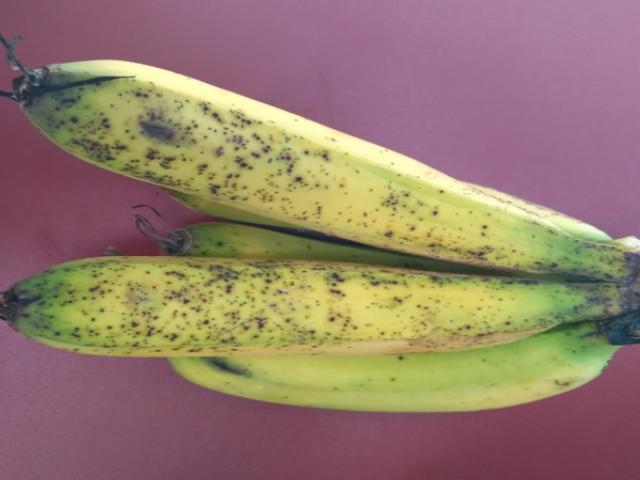freshripe: (146, 331, 609, 438)
ripe: (35, 29, 636, 296), (8, 238, 597, 396)
